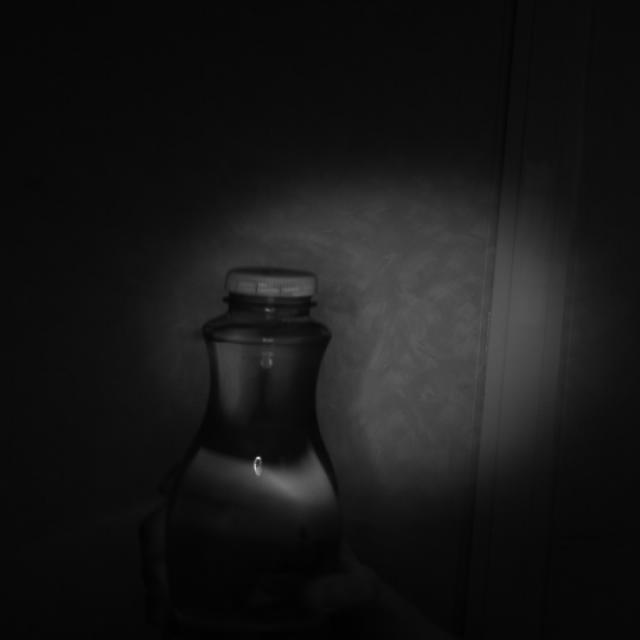Not Good: (220, 264, 322, 306)
